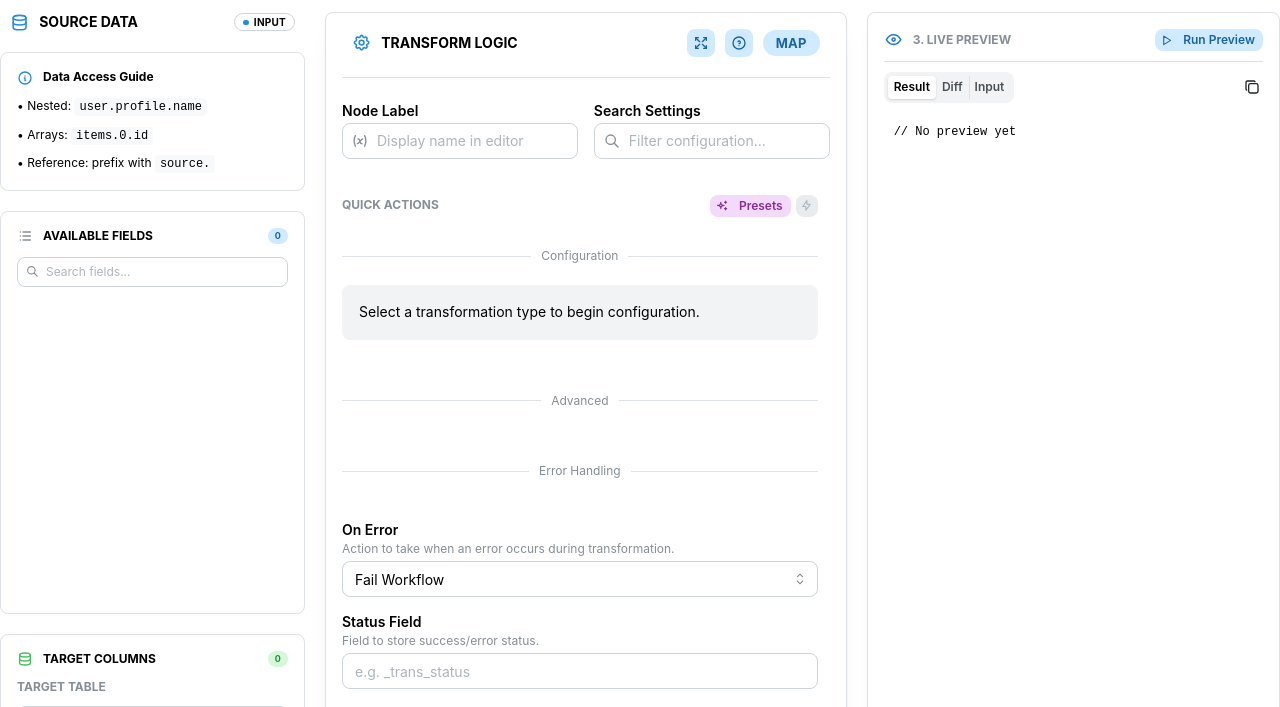
Test: Transformation preview › cancels an in-flight preview request
Click the button "Run Preview" at [1209, 40], box [1155,29,1263,51]
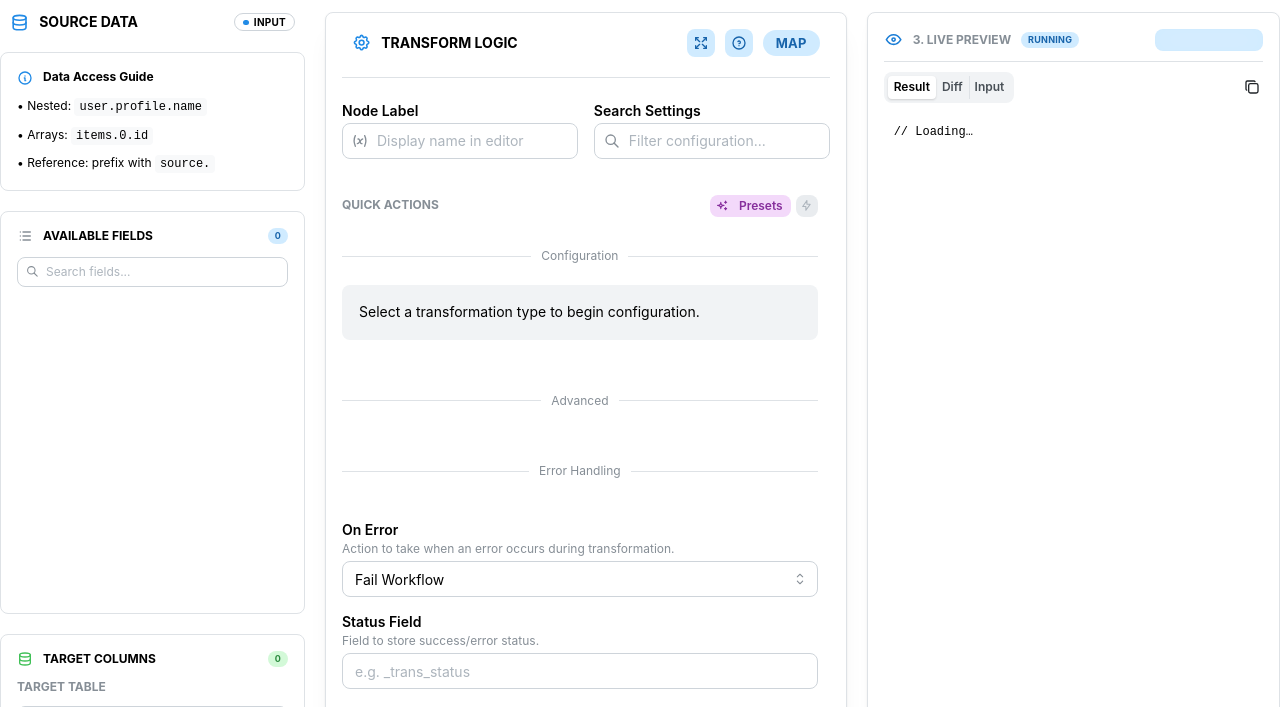
Click it again quickly to trigger cancellation of the previous one
Click the button named "run preview" next to "Running" at [1209, 40], box [1155,29,1263,51]
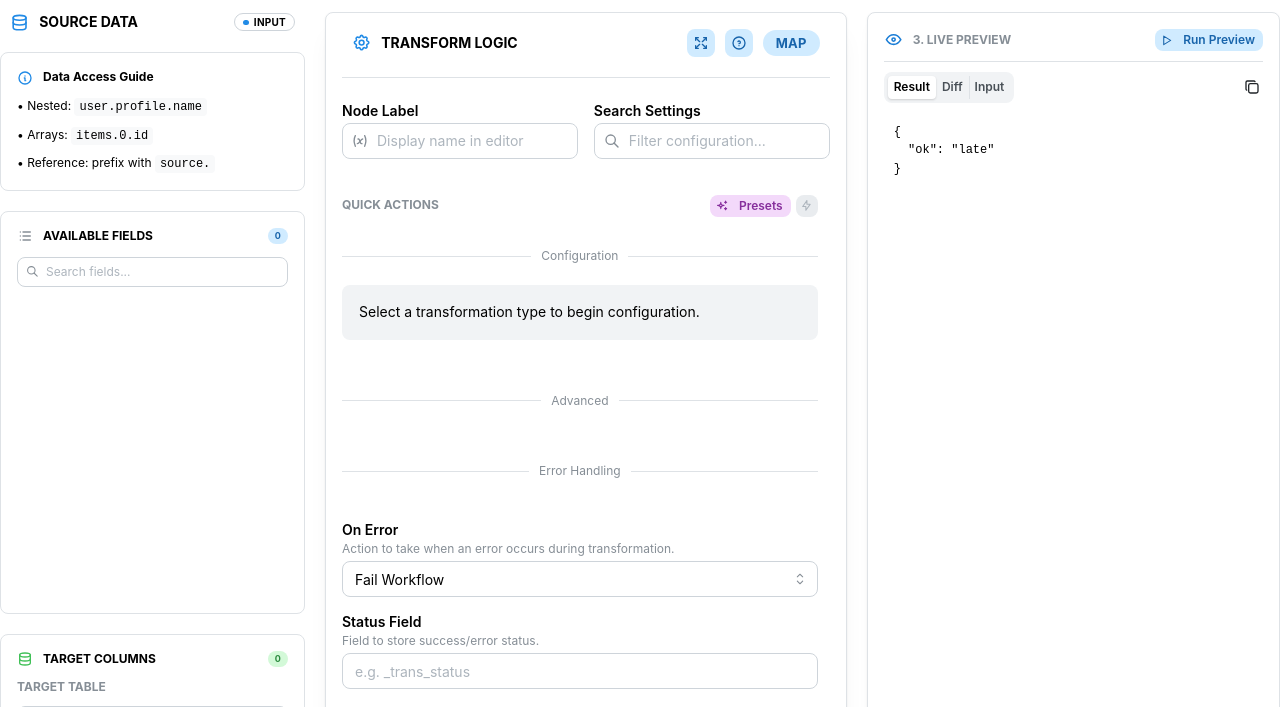
expect the text "Running" is gone: met
